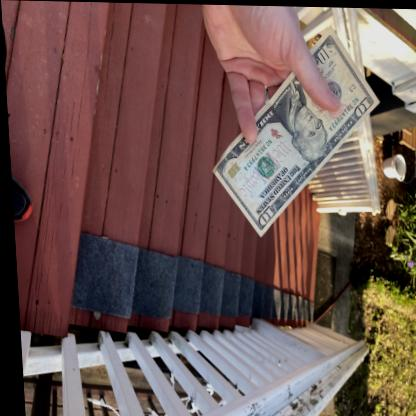ten-front: (207, 27, 379, 237)
